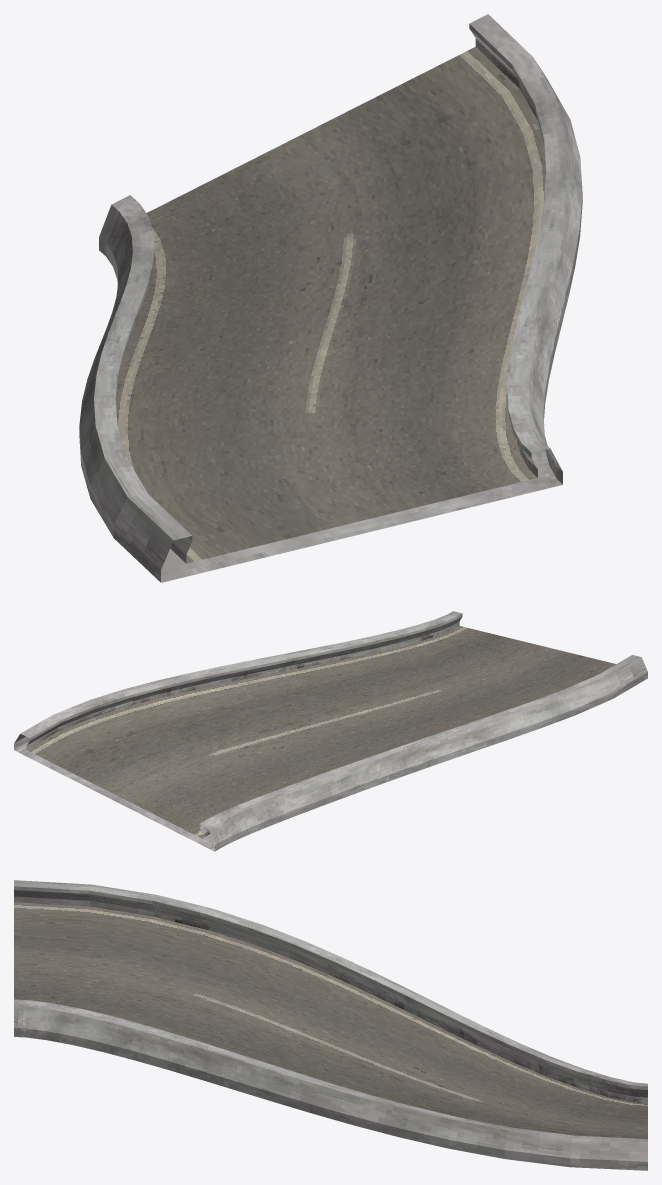
File: chicane-right1x2.glb
3 renders of one model, top to bottom at view 1: azimuth 30°, elevation 25°; view 2: azimuth 150°, elevation 25°; view 3: azimuth 270°, elevation 25°, orthographic. The views are drawn at different scales.
Parts seen in each view (by area): view 1: road-Chicane-Flat-HalfBankedLeft-Down1-Right1-Size2; view 2: road-Chicane-Flat-HalfBankedLeft-Down1-Right1-Size2; view 3: road-Chicane-Flat-HalfBankedLeft-Down1-Right1-Size2.
Boxes of the visible parts, x1,y1,x2,y2 form: road-Chicane-Flat-HalfBankedLeft-Down1-Right1-Size2: (79, 14, 582, 582); road-Chicane-Flat-HalfBankedLeft-Down1-Right1-Size2: (14, 611, 647, 851); road-Chicane-Flat-HalfBankedLeft-Down1-Right1-Size2: (14, 880, 647, 1170).
Bounding box in the file's own units: 2 × 0.3437 × 2.
Materials: 2 (2 with a texture image).
